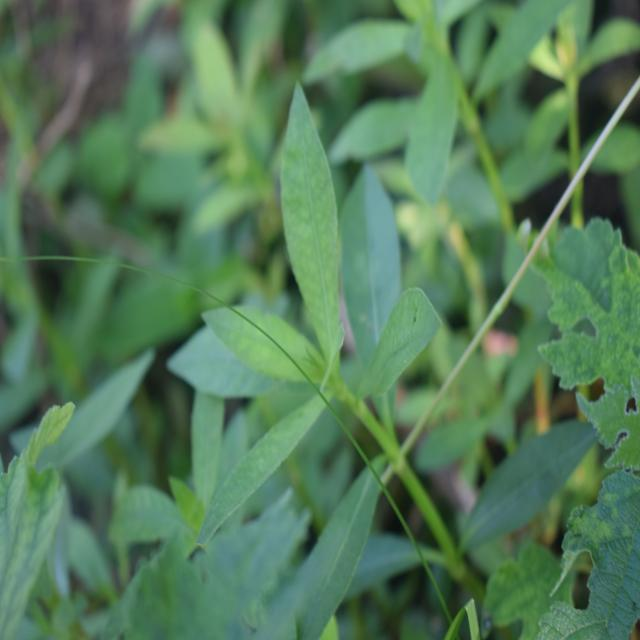Alligatorweed: (146, 88, 466, 559)
